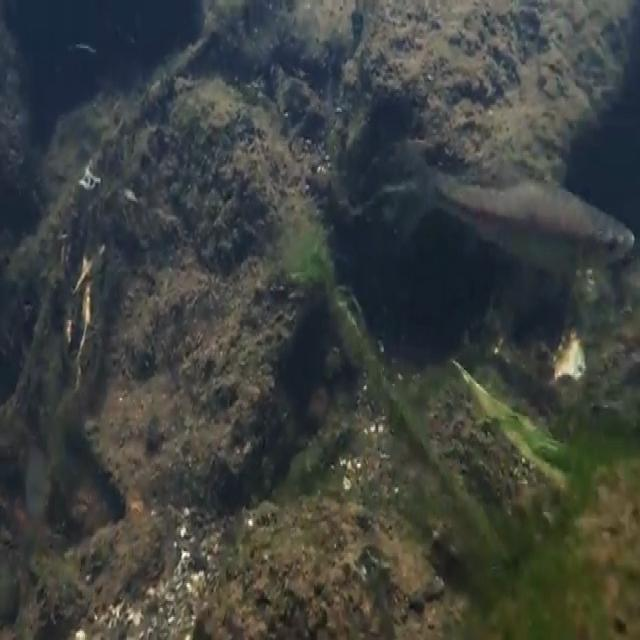Cakil Baligi: (390, 125, 640, 289)
